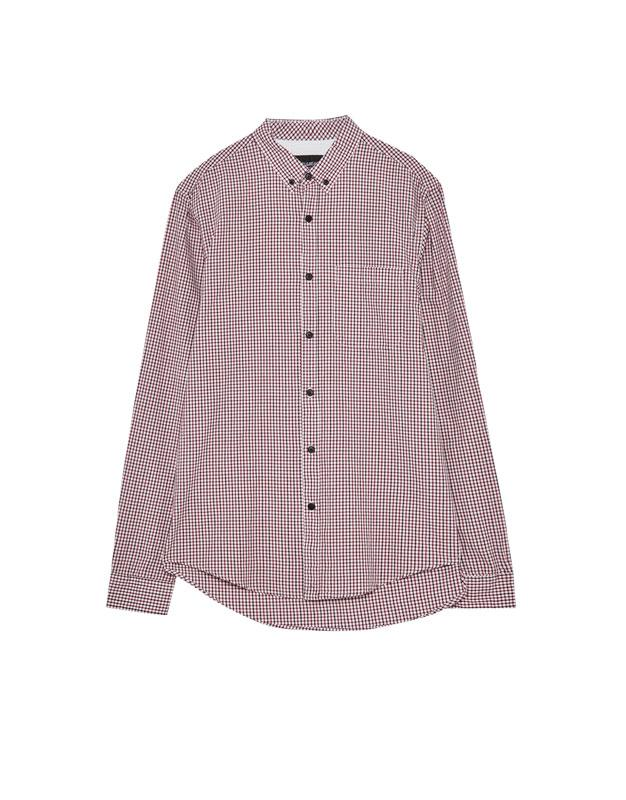teeshirt: (102, 108, 520, 630)
